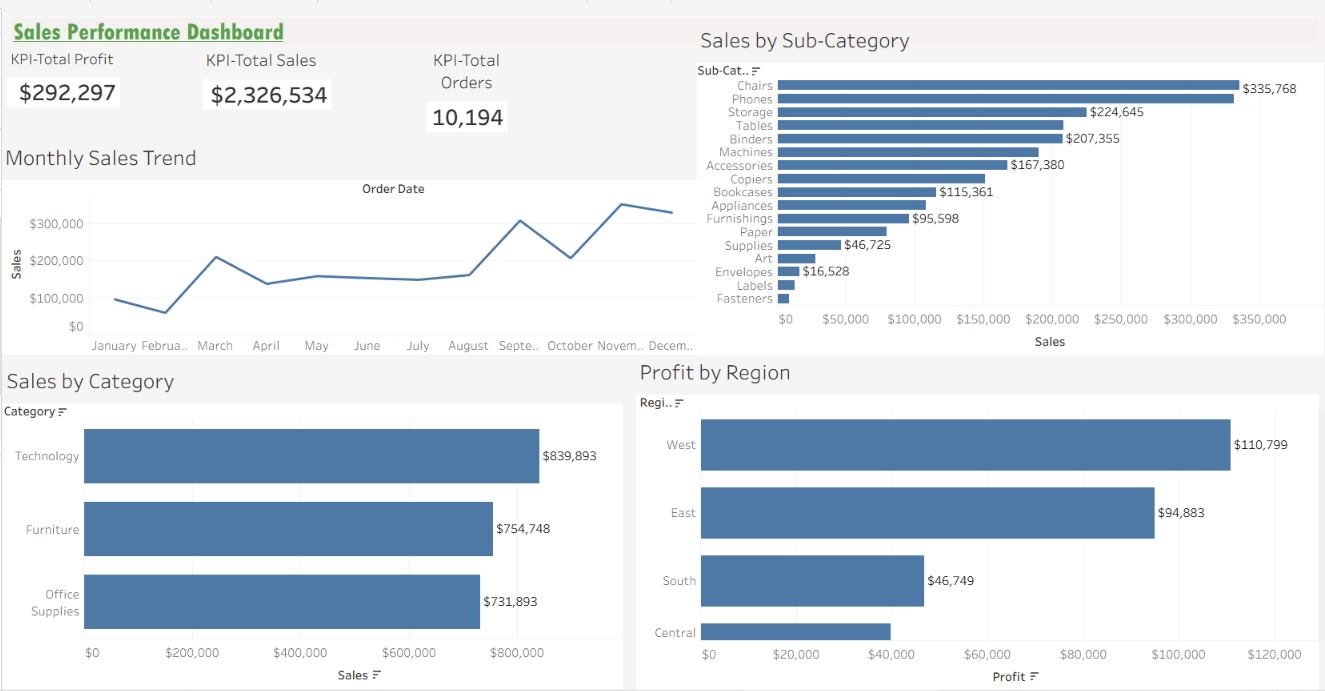

Layout of this report page (visuals, bound fields, positions):
{"tool":"tableau","page":{"name":"Sales Performance Dashboard","canvas":[1000,1000],"units":"permille","ordinal":5},"visuals":[{"type":"title","box":[4.7,9.4,990.6,49.4]},{"type":"worksheet","title":"Sales by Sub-Category","mark":"Automatic","rows":["Sub-Category"],"cols":["Sales"],"box":[524.3,21.2,472.8,488.8]},{"type":"worksheet","title":"KPI-Total Profit","mark":"Automatic","box":[1.9,49.2,142.9,211.9]},{"type":"worksheet","title":"KPI-Total Sales","mark":"Text","box":[144.8,49.2,176.3,211.9]},{"type":"worksheet","title":"KPI-Total Orders","mark":"Automatic","box":[321.2,49.2,198.4,211.9]},{"type":"worksheet","title":"Monthly Sales Trend","mark":"Line","rows":["Sales"],"cols":["Order Date"],"box":[0,193.9,524.3,314.9]},{"type":"worksheet","title":"Sales by Category","mark":"Automatic","rows":["Category"],"cols":["Sales"],"box":[1.2,521.7,466.9,478.3]}]}

Visuals, with their boxes on the dashboard's canvas, which has no fixed pixel size, in thousandths of its width and height (x1, y1, x2, y2). These are canvas units, not pixel positions in the 1325x691 screenshot, which may show the page scaled, cropped or inside an application window:
title: left=5, top=9, right=995, bottom=59
"Sales by Sub-Category" worksheet: left=524, top=21, right=997, bottom=510
"KPI-Total Profit" worksheet: left=2, top=49, right=145, bottom=261
"KPI-Total Sales" worksheet (Text marks): left=145, top=49, right=321, bottom=261
"KPI-Total Orders" worksheet: left=321, top=49, right=520, bottom=261
"Monthly Sales Trend" worksheet (Line marks): left=0, top=194, right=524, bottom=509
"Sales by Category" worksheet: left=1, top=522, right=468, bottom=1000
